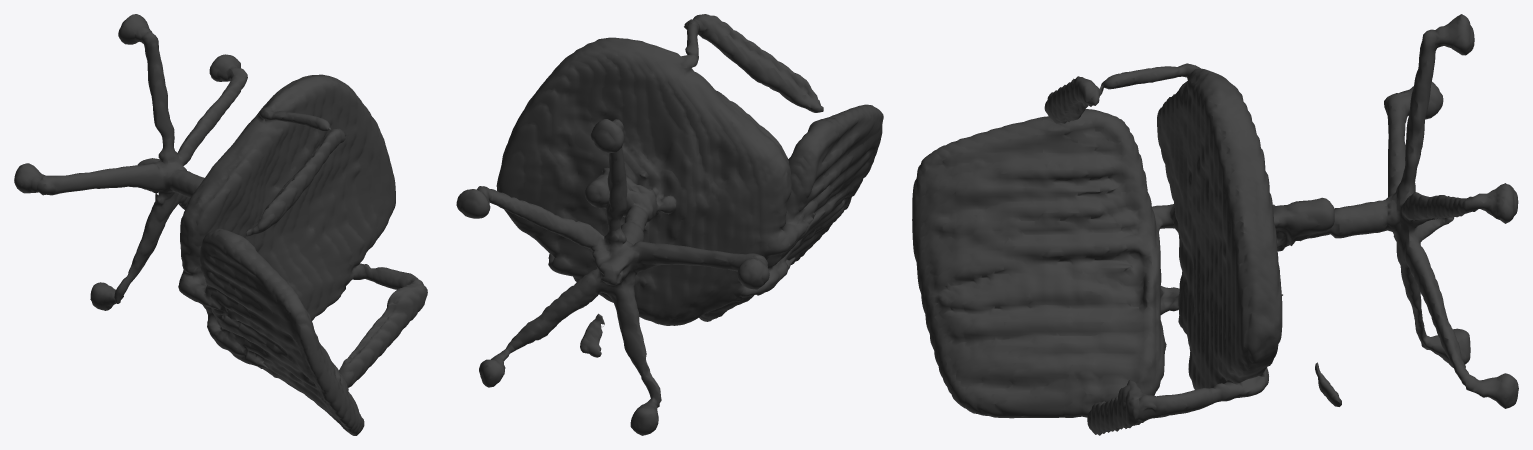
File: chair.glb
The picture shows the model from 3 angles, left to right: view 1: azimuth 30°, elevation 25°; view 2: azimuth 150°, elevation 25°; view 3: azimuth 270°, elevation 25°; orthographic projection. The views are drawn at different scales.
Parts seen in each view (by area): view 1: mesh.obj; view 2: mesh.obj; view 3: mesh.obj.
Boxes of the visible parts, x1,y1,x2,y2 form: mesh.obj: (14, 14, 427, 435); mesh.obj: (456, 14, 883, 435); mesh.obj: (912, 14, 1518, 435).
Size of the model in its own units: 0.5 by 0.4447 by 0.6449.
1 material, 1 textured.
